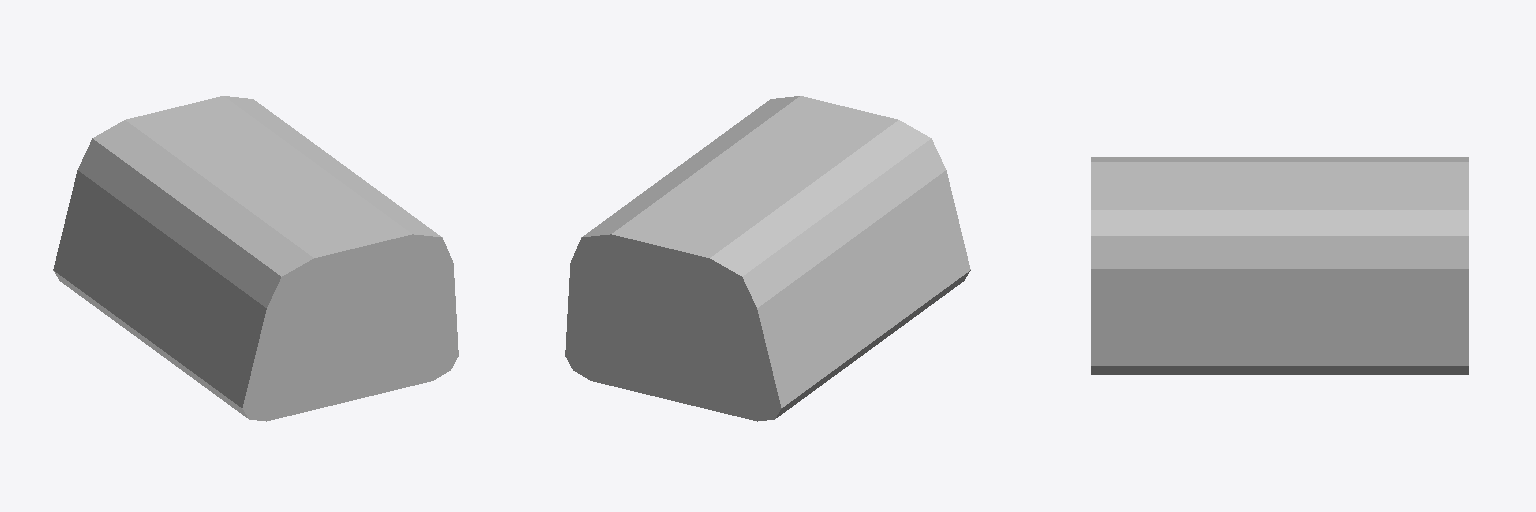
The model's file is HamWorld.obj.
3 renders of one model, left to right at view 1: azimuth 30°, elevation 25°; view 2: azimuth 150°, elevation 25°; view 3: azimuth 270°, elevation 25°, orthographic.
Visible parts, largest first — view 1: HamWorld; view 2: HamWorld; view 3: HamWorld.
Part boxes in pixels (bbox=[...]): HamWorld: bbox=[53, 96, 458, 421]; HamWorld: bbox=[565, 96, 970, 421]; HamWorld: bbox=[1091, 157, 1468, 374].
Bounding box in the file's own units: 0.1462 × 0.0979 × 0.2215.